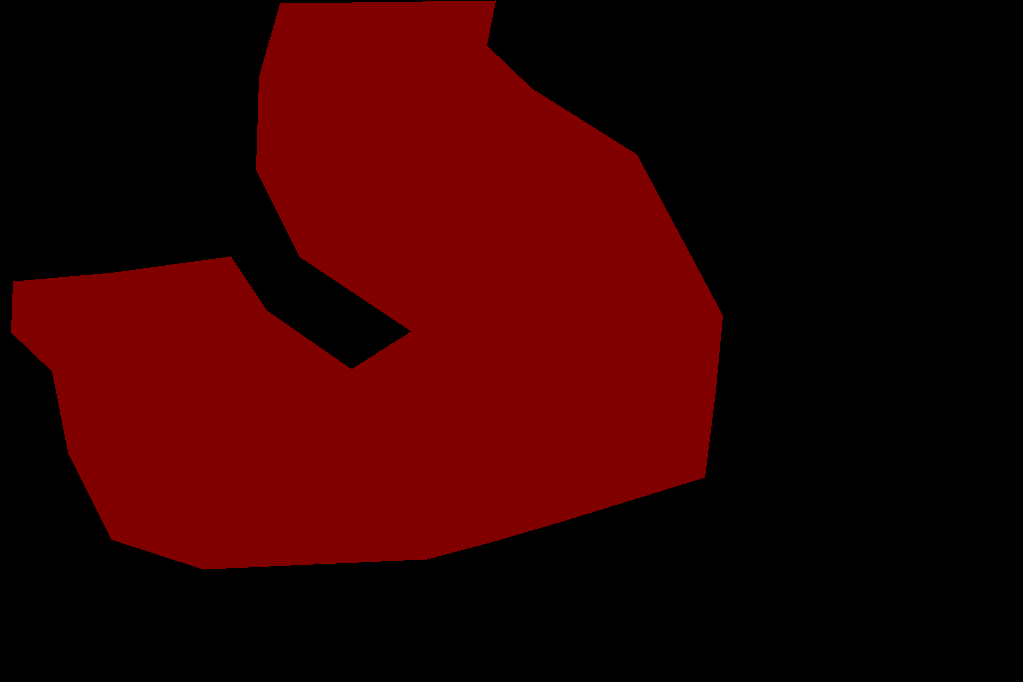fire: (11, 0, 722, 569)
